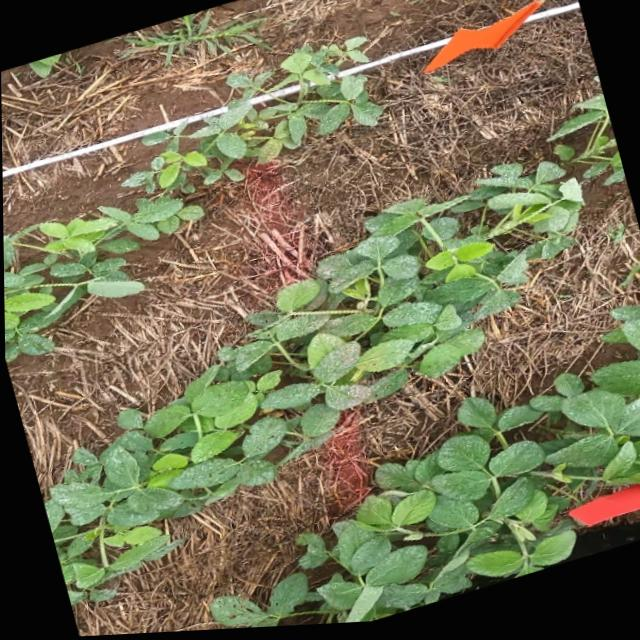grassy_weed: (123, 12, 267, 66)
soy_plant: (42, 99, 624, 597), (210, 312, 640, 630), (3, 40, 381, 359), (28, 53, 59, 75)
